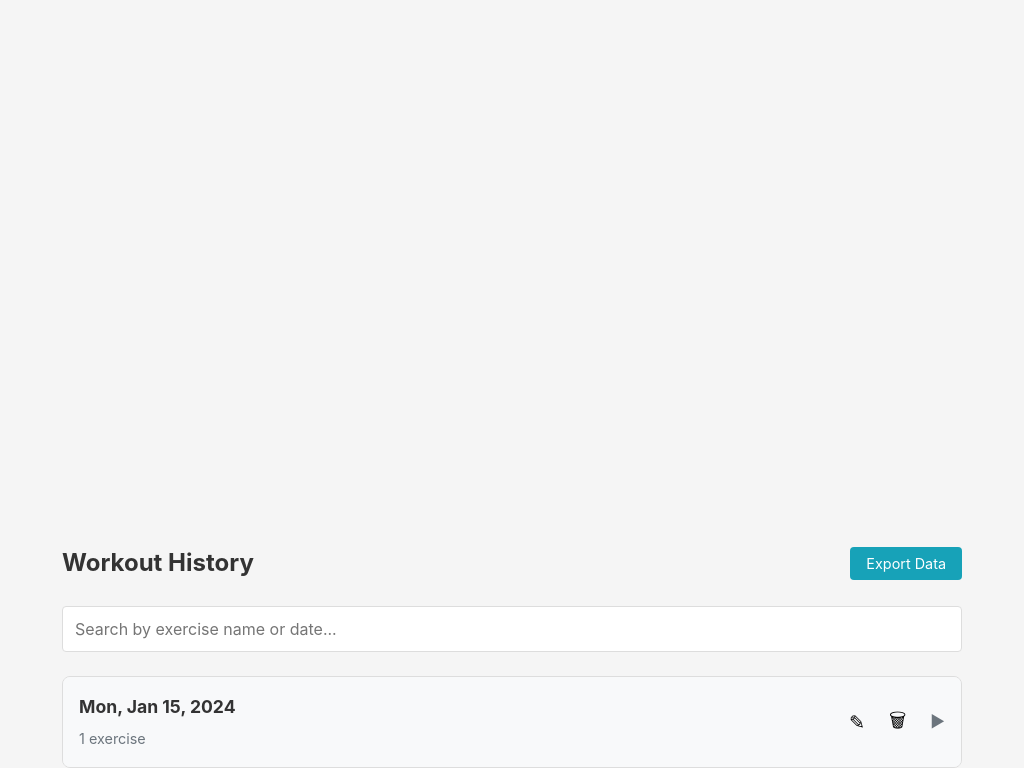
Scenario: WorkoutHistory › edit modal exercise management › should add exercise in edit modal
(page scrolled)
Click the button with class "btn-edit". click: (857, 722)
box: top-left (841, 702), bottom-right (873, 742)
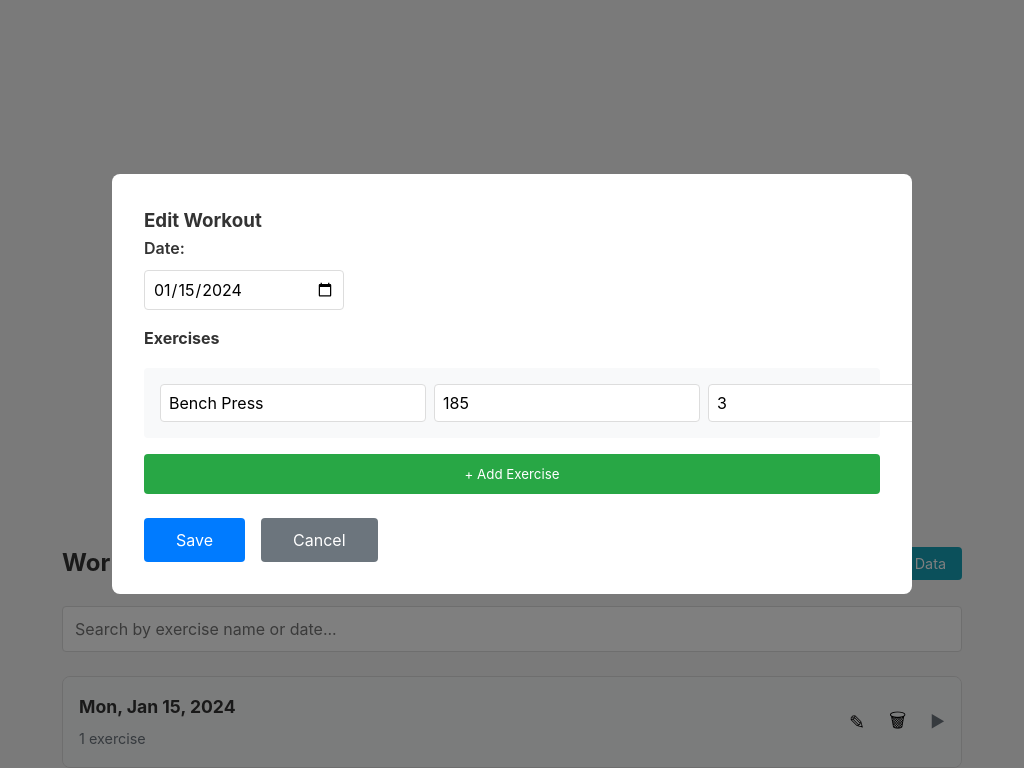
expect the number of elements with class "exercise-row" is 1: met, box top-left (144, 368), bottom-right (880, 438)
Click the button with class "btn-add-exercise". click: (512, 474)
box: top-left (144, 454), bottom-right (880, 494)
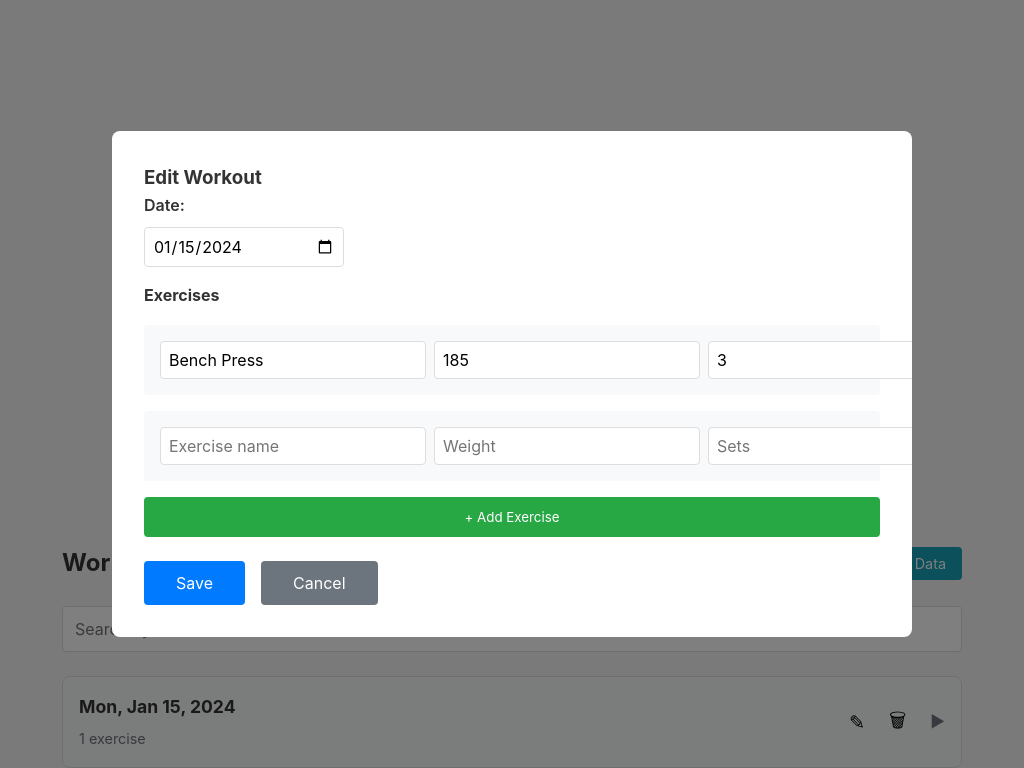
expect the number of elements with class "exercise-row" is 2: met, box top-left (144, 325), bottom-right (880, 395); top-left (144, 411), bottom-right (880, 481)
